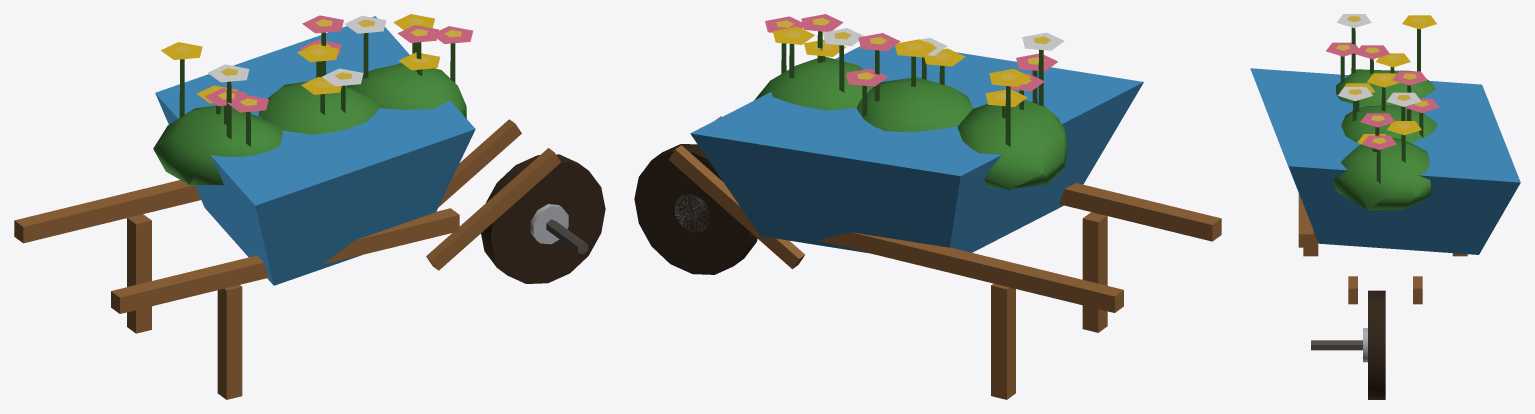
File: wheelbarrow.glb
3 renders of one model, left to right at view 1: azimuth 30°, elevation 25°; view 2: azimuth 150°, elevation 25°; view 3: azimuth 270°, elevation 25°, orthographic. The views are drawn at different scales.
Visible parts, largest first — view 1: decor-wheelbarrow; view 2: decor-wheelbarrow; view 3: decor-wheelbarrow.
Boxes of the visible parts, x1,y1,x2,y2 form: decor-wheelbarrow: (14,14,605,399); decor-wheelbarrow: (634,14,1221,399); decor-wheelbarrow: (1250,14,1520,399).
Size of the model in its own units: 2.02 by 1.09 by 1.09.
